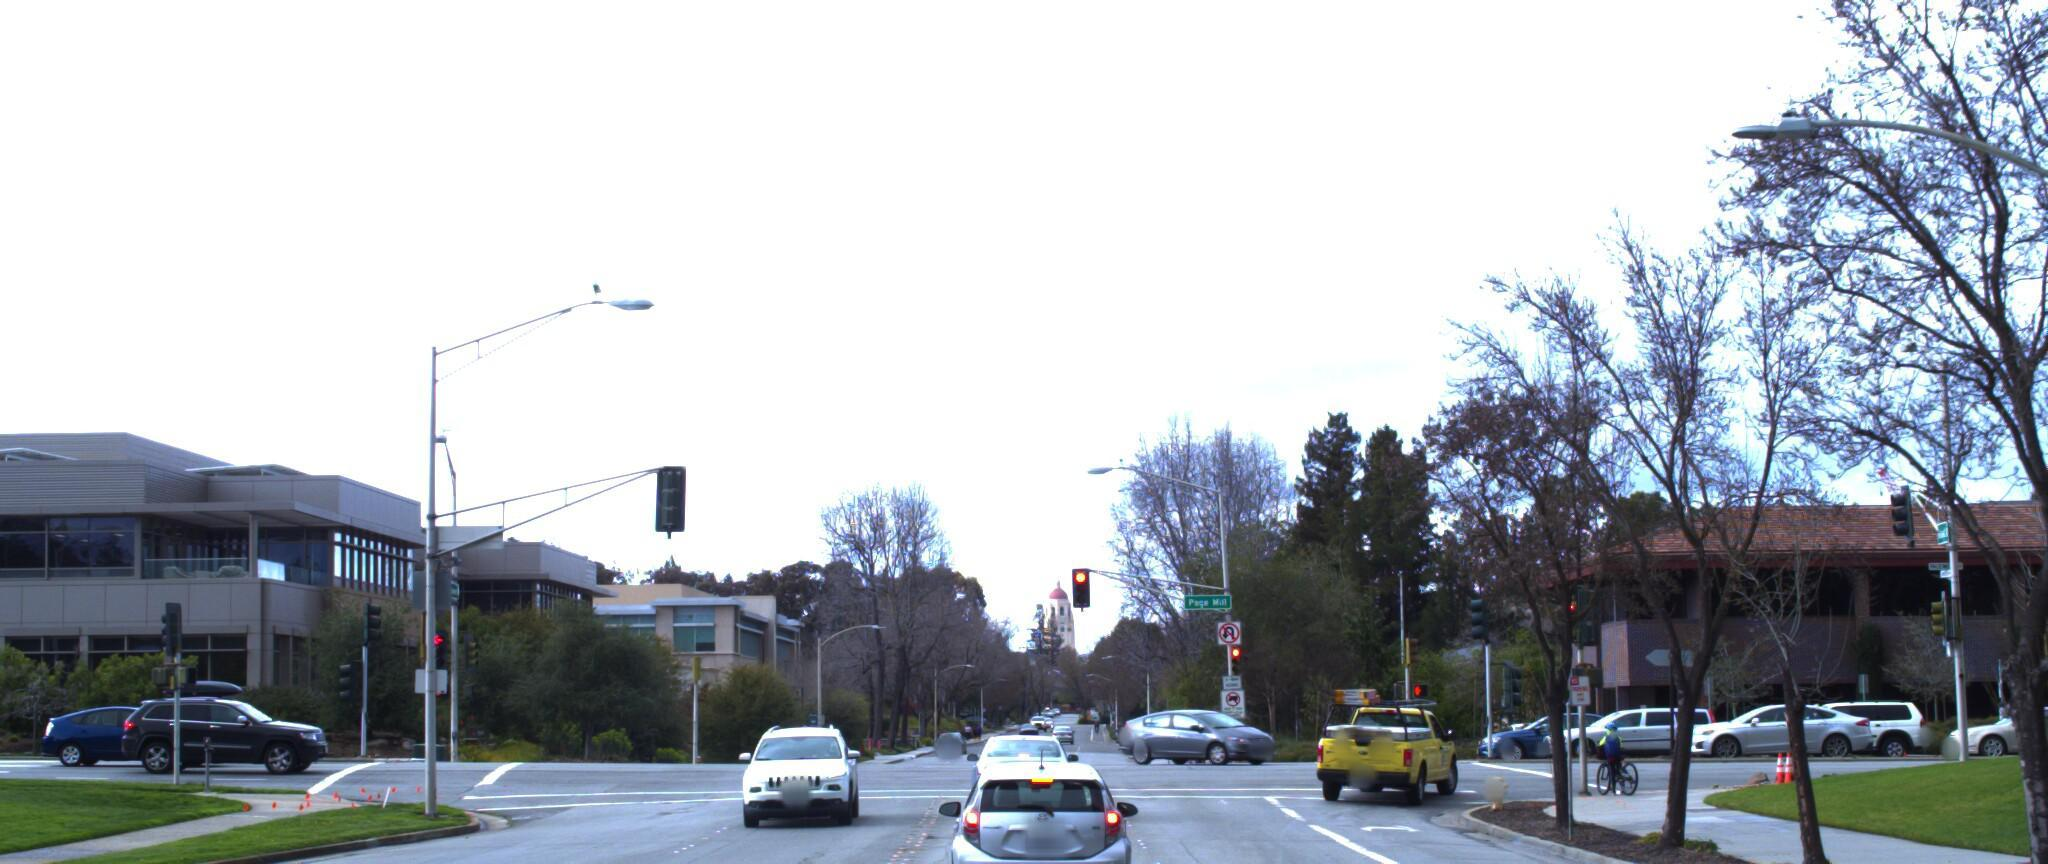bicycle: (1565, 707, 1642, 784)
car: (944, 739, 1149, 864), (107, 683, 342, 767), (1307, 689, 1467, 810), (1676, 679, 1886, 758), (1106, 703, 1294, 784), (21, 690, 222, 764), (734, 711, 863, 818), (1448, 700, 1647, 764), (1516, 690, 1704, 756), (1912, 694, 2048, 750)
